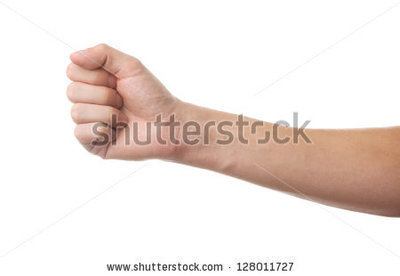closedhandfront: (47, 32, 188, 177)
